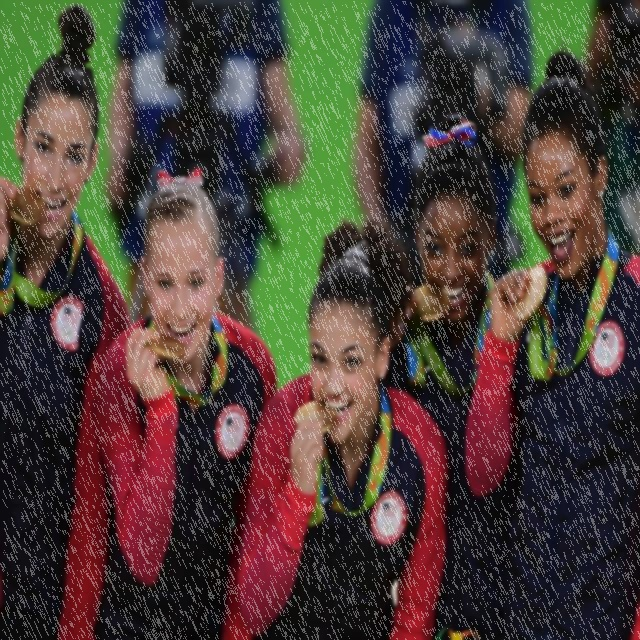pessoa: (463, 47, 639, 639), (77, 157, 292, 639), (217, 205, 452, 640), (0, 0, 141, 639), (379, 113, 522, 640), (103, 0, 306, 335), (354, 0, 536, 287), (587, 0, 639, 255)
